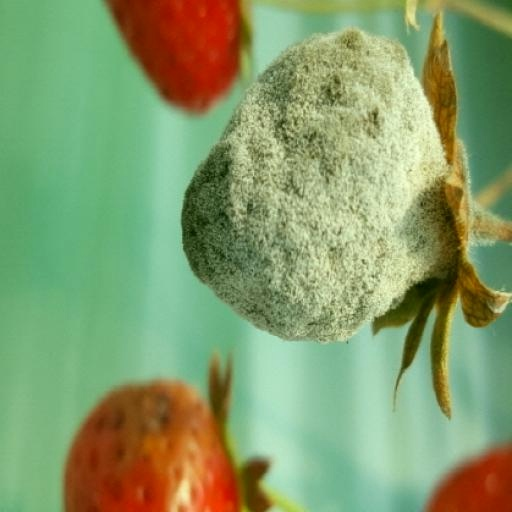Gray Mold: (4, 91, 332, 506)
